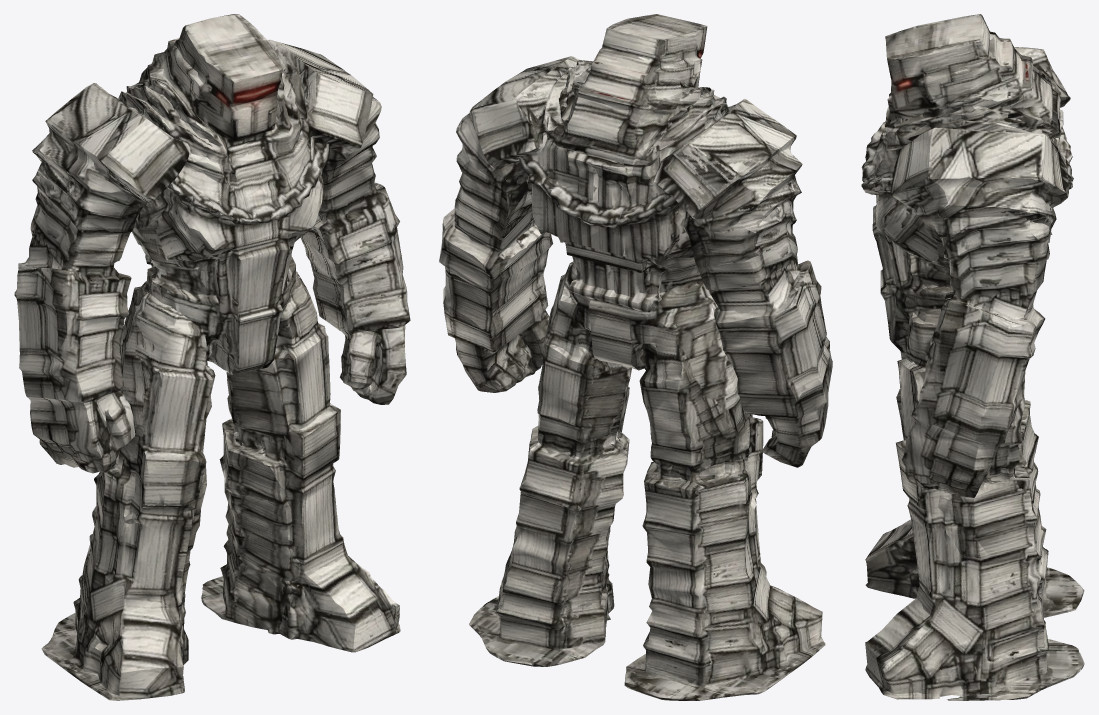
The model's file is custode.glb.
3 renders of one model, left to right at view 1: azimuth 30°, elevation 25°; view 2: azimuth 150°, elevation 25°; view 3: azimuth 270°, elevation 25°, orthographic.
Visible parts, largest first — view 1: geometry_0; view 2: geometry_0; view 3: geometry_0.
Boxes of the visible parts, x1,y1,x2,y2 form: geometry_0: (14,14,410,700); geometry_0: (439,14,832,700); geometry_0: (861,14,1084,700).
Size of the model in its own units: 1.3 by 2 by 0.6693.
1 material, 1 textured.
